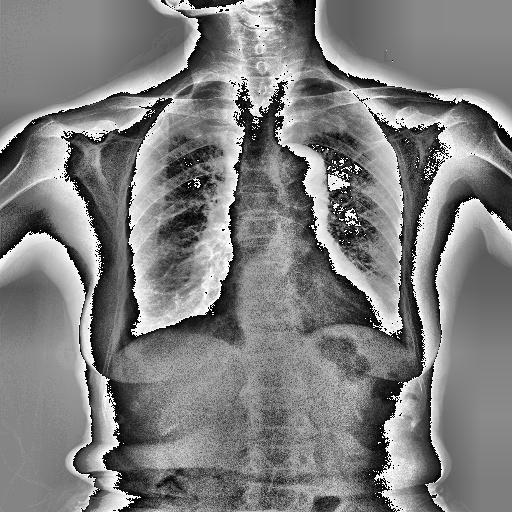0- Aortic enlargement: (266, 143, 330, 196), (268, 142, 328, 197), (274, 142, 328, 196)
3- Cardiomegaly: (202, 300, 392, 349), (206, 284, 386, 331), (207, 294, 388, 330)
